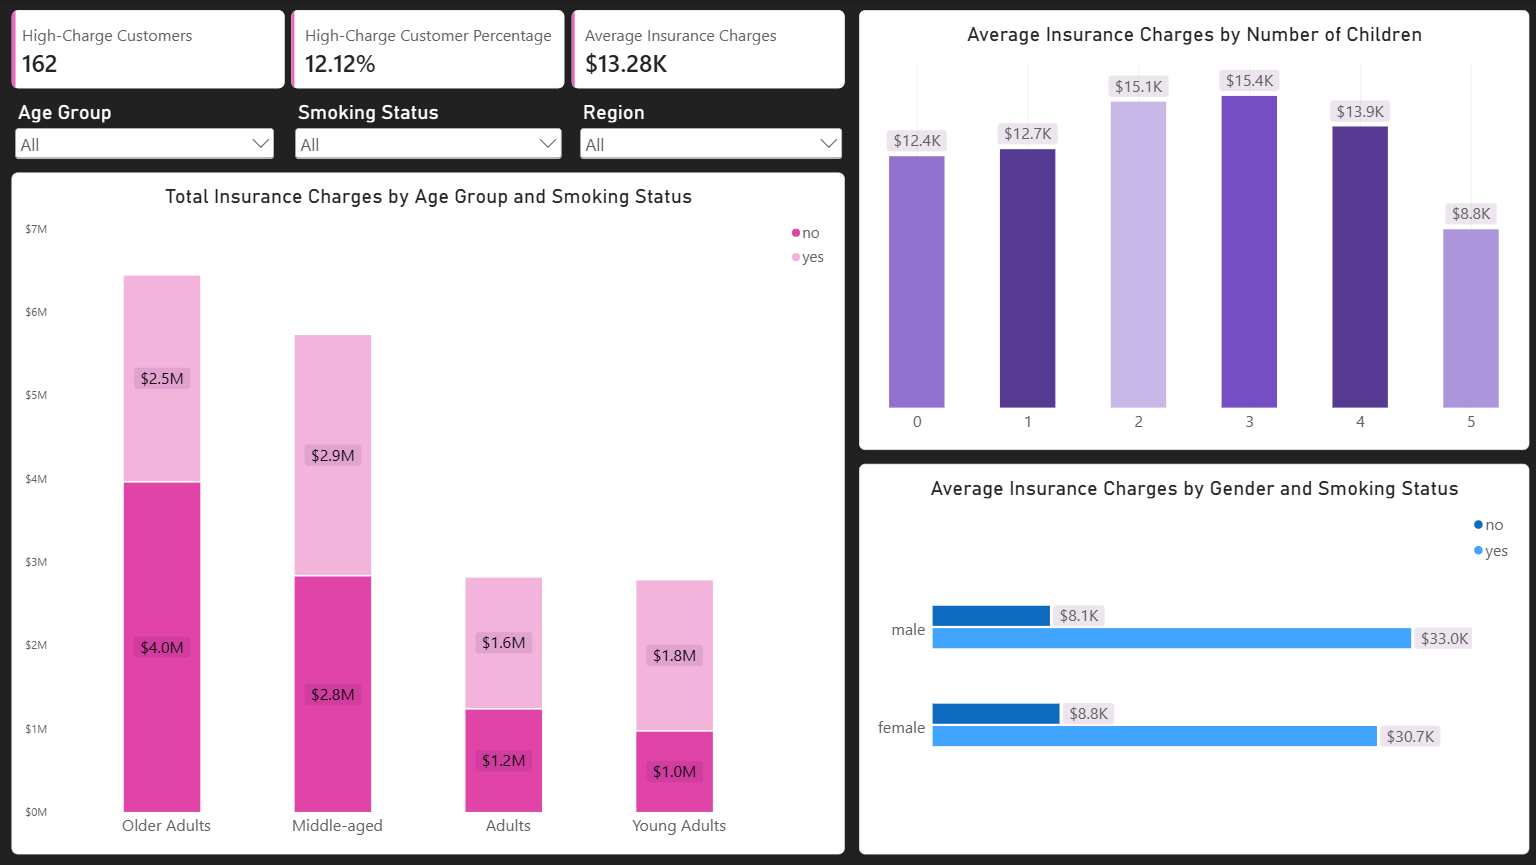

This screenshot's page, from the dashboard's own definition file:
{"tool":"powerbi","page":{"name":"Customer Segmentation & Cost Drivers","canvas":[1920,1080],"ordinal":2},"visuals":[{"type":"slicer","fields":{"Values":["healthcare_insurance_cleaned.age_group"]},"box":[16.4,125.4,332.5,98.1],"z":0},{"type":"slicer","fields":{"Values":["healthcare_insurance_cleaned.smoker"]},"box":[365.2,125.4,341.6,112.6],"z":1000},{"type":"slicer","fields":{"Values":["healthcare_insurance_cleaned.smoker"]},"box":[69.8,251.2,280.5,112.2],"z":2000},{"type":"cardVisual","fields":{"Data":["healthcare_insurance_cleaned.High-Charge Customers","healthcare_insurance_cleaned.High-Charge Customer Percentage","Avg(healthcare_insurance_cleaned.charges)"]},"box":[16.4,12.7,1039.2,98.1],"z":3000},{"type":"columnChart","title":"Total Insurance Charges by Age Group and Smoking Status","fields":{"Category":["healthcare_insurance_cleaned.age_group"],"Series":["healthcare_insurance_cleaned.smoker"],"Y":["Sum(healthcare_insurance_cleaned.charges)"]},"box":[16.4,214.4,1039.2,850.3],"z":4000},{"type":"clusteredColumnChart","title":"Average Insurance Charges by Number of Children","fields":{"Category":["healthcare_insurance_cleaned.children"],"Y":["Avg(healthcare_insurance_cleaned.charges)"]},"box":[1071.9,12.7,835.7,548.7],"z":5000},{"type":"clusteredBarChart","title":"Average Insurance Charges by Gender and Smoking Status","fields":{"Category":["healthcare_insurance_cleaned.sex"],"Series":["healthcare_insurance_cleaned.smoker"],"Y":["Avg(healthcare_insurance_cleaned.charges)"]},"box":[1071.9,577.7,835.7,486.9],"z":6000},{"type":"slicer","fields":{"Values":["healthcare_insurance_cleaned.region"]},"box":[719.5,125.4,336.1,112.6],"z":6001}]}

Visuals, with their boxes in screenshot pixels (x1, y1, x2, y2), scaled from the page's 1920x1080 canvas onto the 1536x865 screenshot:
slicer - healthcare_insurance_cleaned.age_group: 13 100 279 179
slicer - healthcare_insurance_cleaned.smoker: 292 100 565 191
slicer - healthcare_insurance_cleaned.smoker: 56 201 280 291
cardVisual - healthcare_insurance_cleaned.High-Charge Customers x healthcare_insurance_cleaned.High-Charge Customer Percentage: 13 10 844 89
"Total Insurance Charges by Age Group and Smoking Status" columnChart: 13 172 844 853
"Average Insurance Charges by Number of Children" clusteredColumnChart: 858 10 1526 450
"Average Insurance Charges by Gender and Smoking Status" clusteredBarChart: 858 463 1526 853
slicer - healthcare_insurance_cleaned.region: 576 100 844 191
